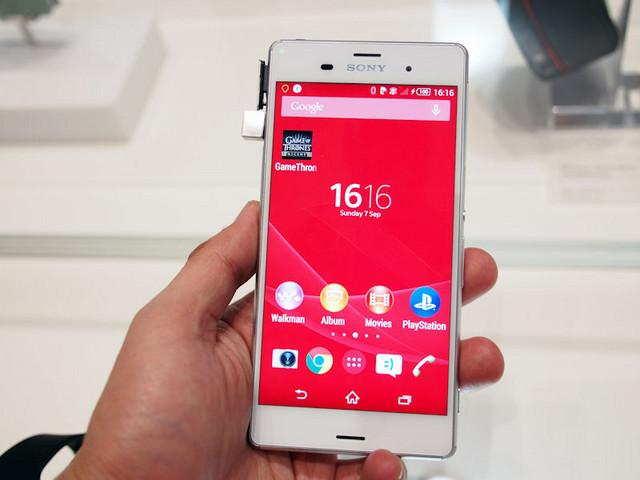phone: (259, 40, 460, 450)
